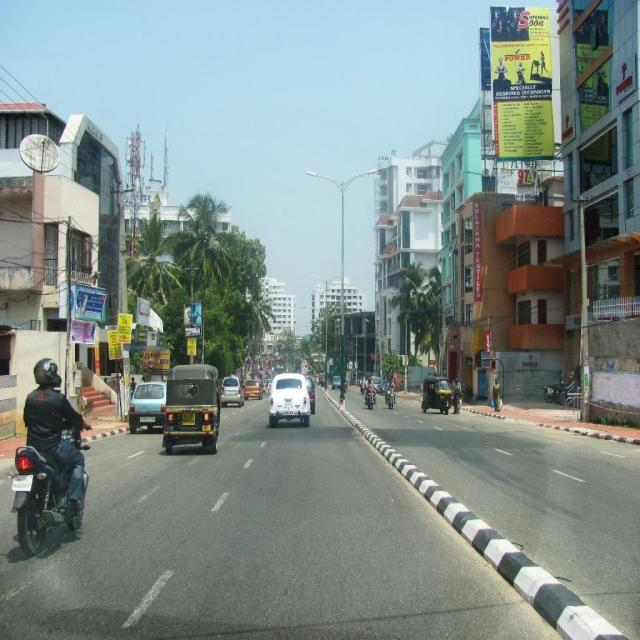auto ahead at: (160, 364, 221, 457)
motorcycle ahead at: (10, 446, 94, 561)
